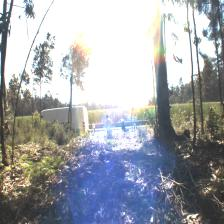trunktrack_idkeyframe: (154, 41, 180, 136), (0, 38, 9, 166)
